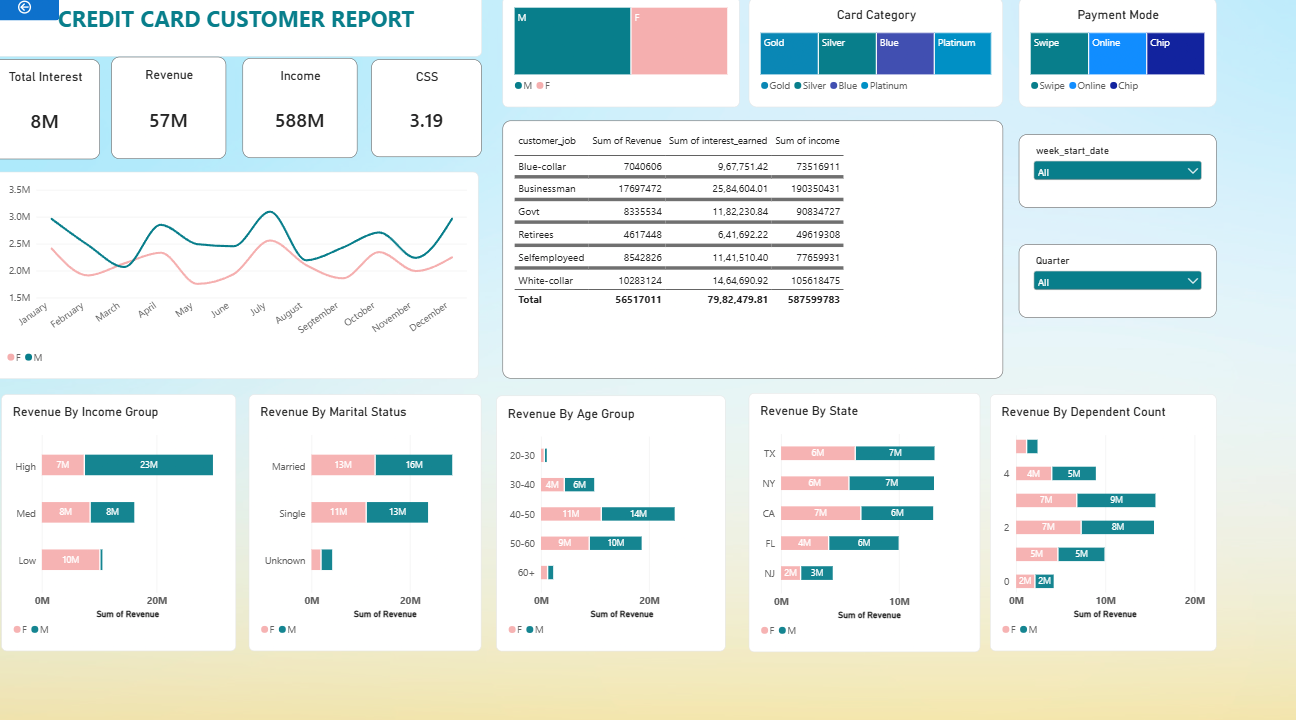

What the dashboard file says about the page in this screenshot:
{"tool":"powerbi","page":{"name":"Customer Report","canvas":[1920,1080],"ordinal":3},"visuals":[{"type":"barChart","title":"Revenue By Income Group","fields":{"Category":["public cust_detail.IncomeGroup"],"Series":["public cust_detail.gender"],"Y":["Sum(public cc_detail.Revenue)"]},"box":[16.7,581.7,340,371.7],"z":0},{"type":"slicer","fields":{"Values":["public cc_detail.week_start_date"]},"box":[1490,205,286.7,106.7],"z":1000},{"type":"textbox","box":[1.7,0,710,91.7],"z":2000},{"type":"barChart","title":"Revenue By Marital Status","fields":{"Category":["public cust_detail.marital_status"],"Series":["public cust_detail.gender"],"Y":["Sum(public cc_detail.Revenue)"]},"box":[375,581.7,336.7,371.7],"z":3000},{"type":"barChart","title":"Revenue By Age Group","fields":{"Category":["public cust_detail.AgeGroup"],"Series":["public cust_detail.gender"],"Y":["Sum(public cc_detail.Revenue)"]},"box":[733.3,583.3,331.7,370],"z":4000},{"type":"barChart","title":"Revenue By State","fields":{"Category":["public cust_detail.state_cd"],"Series":["public cust_detail.gender"],"Y":["Sum(public cc_detail.Revenue)"]},"box":[1098.3,578.3,335,375],"z":5000},{"type":"treemap","title":"Card Category","fields":{"Group":["public cc_detail.card_category"],"Values":["Avg(public cust_detail.client_num)"]},"box":[1098.3,5,368.3,160],"z":6000},{"type":"treemap","title":"Payment Mode","fields":{"Group":["public cc_detail.use_chip"],"Values":["Avg(public cust_detail.client_num)"]},"box":[1490,5,286.7,160],"z":7000},{"type":"tableEx","fields":{"Values":["public cust_detail.customer_job","Sum(public cc_detail.Revenue)","Sum(public cc_detail.interest_earned)","Sum(public cust_detail.income)"]},"box":[741.7,185,725,373.3],"z":8000},{"type":"card","title":"Income","fields":{"Values":["Sum(public cust_detail.income)"]},"box":[365.6,94.1,166.5,144.8],"z":9000},{"type":"card","title":"Revenue","fields":{"Values":["Sum(public cc_detail.Revenue)"]},"box":[175.5,92.3,166.5,148.4],"z":10000},{"type":"card","title":"Total Interest","fields":{"Values":["Sum(public cc_detail.interest_earned)"]},"box":[0,95.9,159.3,144.8],"z":11000},{"type":"card","title":"CSS","fields":{"Values":["Avg(public cust_detail.cust_satisfaction_score)"]},"box":[551.7,96.7,160,141.7],"z":12000},{"type":"actionButton","box":[0,0,100,40],"z":13000},{"type":"lineChart","title":"Revenue By Month","fields":{"Category":["public cc_detail.week_start_date.Variation.Date Hierarchy.Month"],"Series":["public cust_detail.gender"],"Y":["Sum(public cc_detail.Revenue)"]},"box":[6.7,258.3,700,300],"z":14000},{"type":"treemap","fields":{"Group":["public cust_detail.gender"],"Values":["Sum(public cc_detail.Revenue)"]},"box":[741.7,5,343.3,160],"z":15000},{"type":"barChart","title":"Revenue By Dependent Count","fields":{"Category":["public cust_detail.dependent_count"],"Series":["public cust_detail.gender"],"Y":["Sum(public cc_detail.Revenue)"]},"box":[1448.3,581.7,328.3,371.7],"z":16000},{"type":"slicer","fields":{"Values":["public cc_detail.qtr","public cc_detail.Quarter"]},"box":[1490,363.3,286.7,106.7],"z":17000}]}

Visuals, with their boxes in screenshot pixels (x1, y1, x2, y2), scaled from the page's 1920x1080 canvas onto the 1296x720 screenshot:
"Revenue By Income Group" barChart: Rect(11, 388, 241, 636)
slicer - public cc_detail.week_start_date: Rect(1006, 137, 1199, 208)
textbox: Rect(1, 0, 480, 61)
"Revenue By Marital Status" barChart: Rect(253, 388, 480, 636)
"Revenue By Age Group" barChart: Rect(495, 389, 719, 636)
"Revenue By State" barChart: Rect(741, 386, 967, 636)
"Card Category" treemap: Rect(741, 3, 990, 110)
"Payment Mode" treemap: Rect(1006, 3, 1199, 110)
tableEx - public cust_detail.customer_job x Sum(public cc_detail.Revenue): Rect(501, 123, 990, 372)
"Income" card: Rect(247, 63, 359, 159)
"Revenue" card: Rect(118, 62, 231, 160)
"Total Interest" card: Rect(0, 64, 108, 160)
"CSS" card: Rect(372, 64, 480, 159)
actionButton: Rect(0, 0, 68, 27)
"Revenue By Month" lineChart: Rect(5, 172, 477, 372)
treemap - public cust_detail.gender x Sum(public cc_detail.Revenue): Rect(501, 3, 732, 110)
"Revenue By Dependent Count" barChart: Rect(978, 388, 1199, 636)
slicer - public cc_detail.qtr x public cc_detail.Quarter: Rect(1006, 242, 1199, 313)
